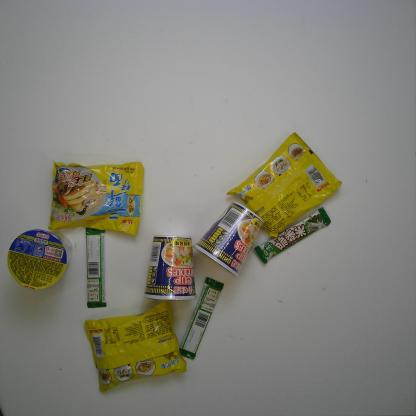Chocolate: (252, 206, 333, 266), (176, 274, 226, 360), (83, 225, 110, 311)
Instant Noodles: (224, 131, 344, 238), (83, 299, 189, 396), (46, 160, 147, 235), (193, 199, 266, 282), (6, 227, 73, 292), (140, 232, 200, 302)
